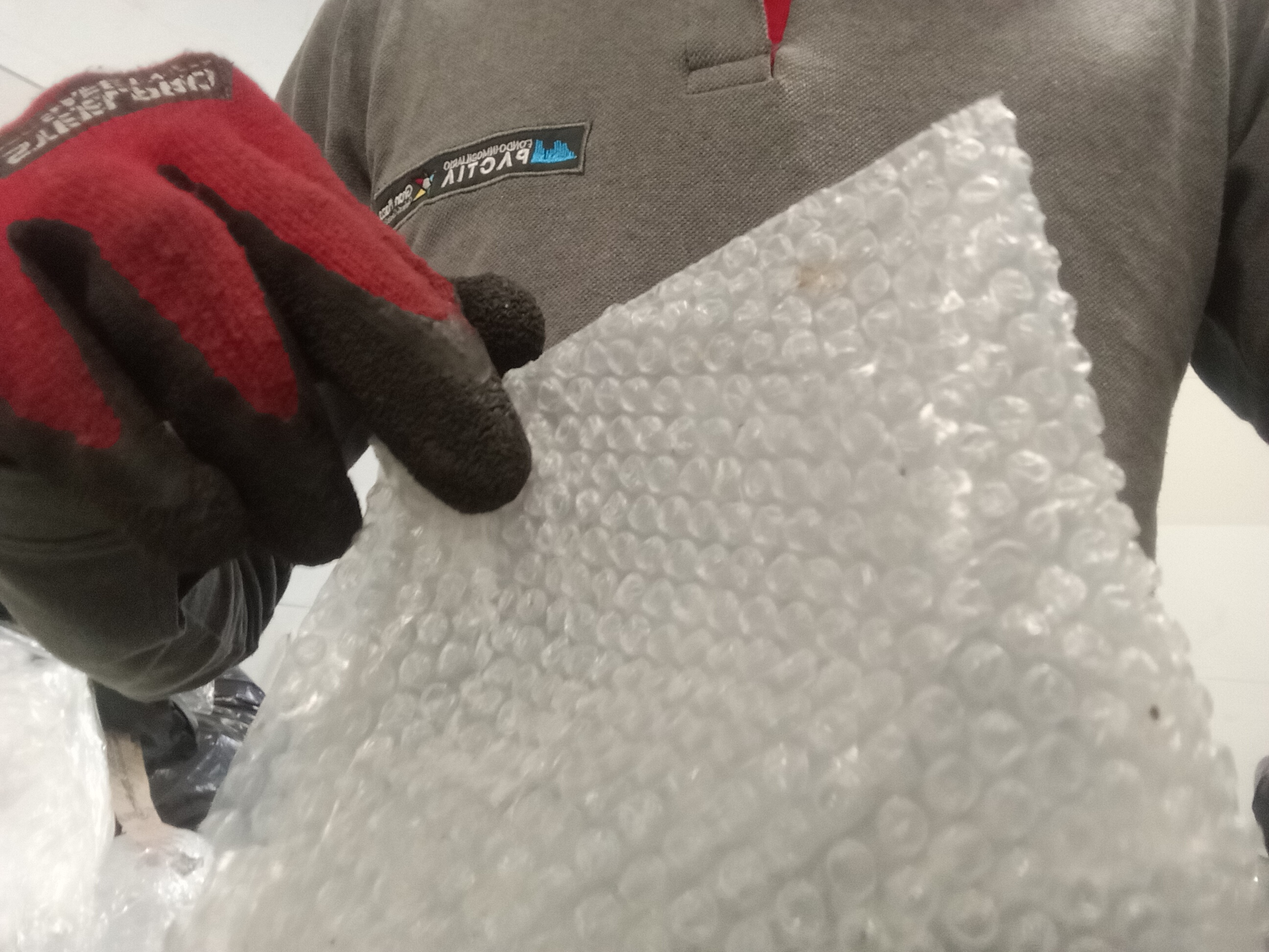Plastico: (191, 90, 1269, 952)
